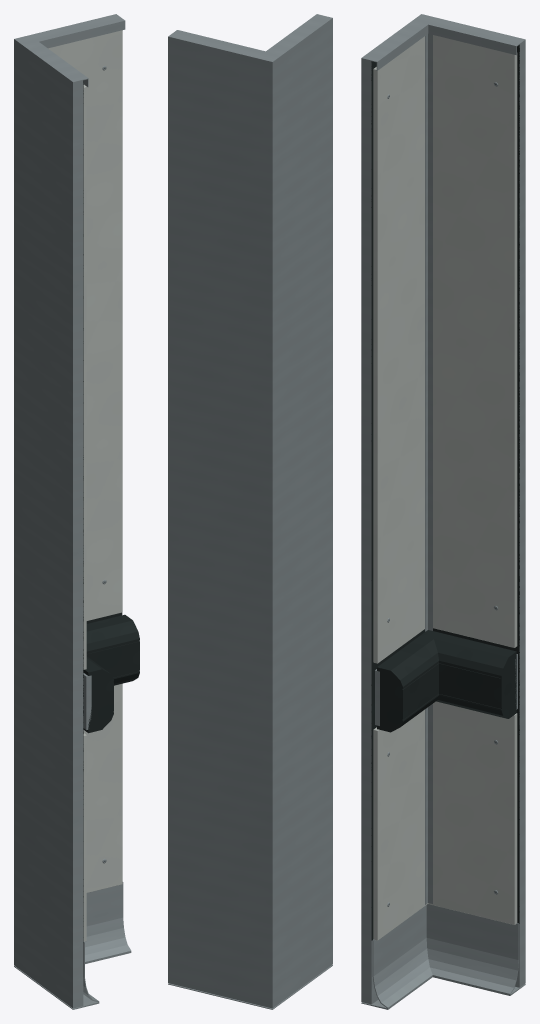
File: AST-STF-002.glb
The picture shows the model from 3 angles, left to right: view 1: azimuth 30°, elevation 25°; view 2: azimuth 150°, elevation 25°; view 3: azimuth 330°, elevation 25°; orthographic projection. The views are drawn at different scales.
Parts seen in each view (by area): view 1: ASTRAEA_staff_wall_staff_zinc, ASTRAEA_staff_wall_staff_white_paint, ASTRAEA_staff_wall_staff_rubber; view 2: ASTRAEA_staff_wall_staff_zinc; view 3: ASTRAEA_staff_wall_staff_white_paint, ASTRAEA_staff_wall_staff_zinc, ASTRAEA_staff_wall_staff_rubber.
Boxes of the visible parts, x1,y1,x2,y2 form: ASTRAEA_staff_wall_staff_zinc: (14,14,131,1009); ASTRAEA_staff_wall_staff_white_paint: (48,30,122,941); ASTRAEA_staff_wall_staff_rubber: (83,68,139,942); ASTRAEA_staff_wall_staff_zinc: (168,14,332,1009); ASTRAEA_staff_wall_staff_white_paint: (373,35,517,940); ASTRAEA_staff_wall_staff_zinc: (361,14,525,1009); ASTRAEA_staff_wall_staff_rubber: (371,44,519,940).
Bounding box in the file's own units: 0.3 × 2.6 × 0.3.
3 materials, 3 textured.
